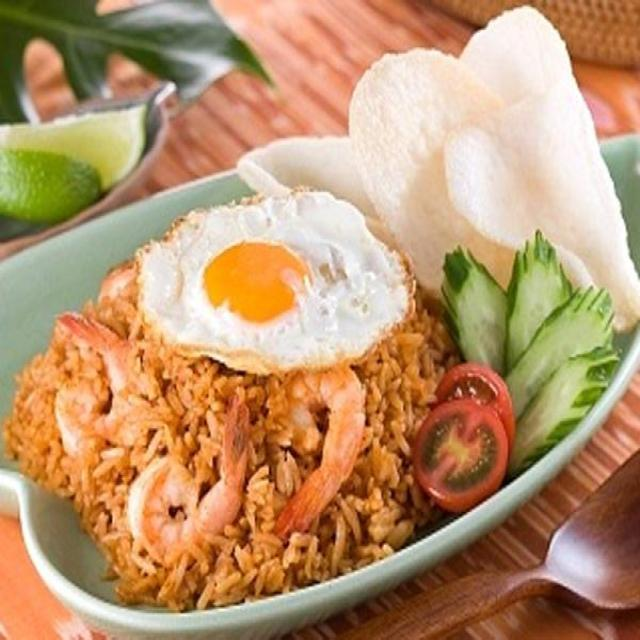Nasi Goreng: (22, 264, 437, 592)
